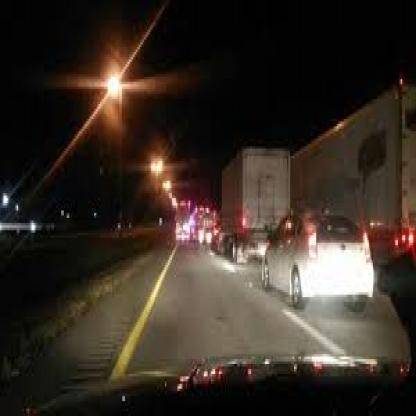car: (252, 211, 380, 328)
